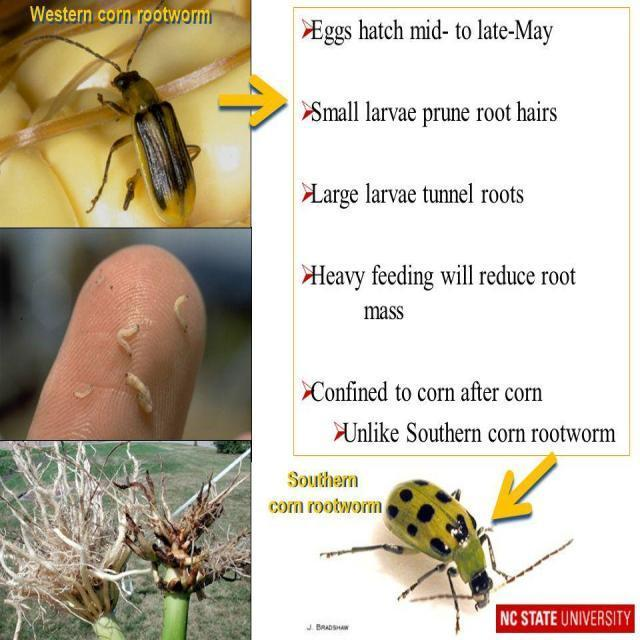gusano_verde: (320, 478, 572, 632)
trips: (22, 0, 198, 221)
